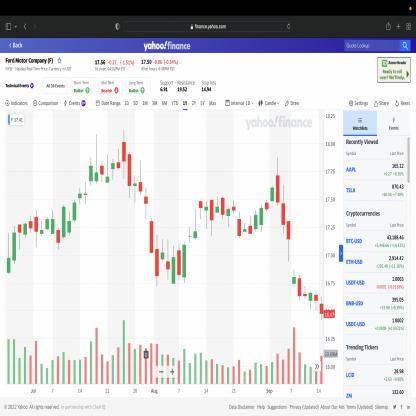Bearish: 3 Black Crows: (275, 153, 292, 267)
Bullish: Engulfing: (176, 238, 188, 288)
